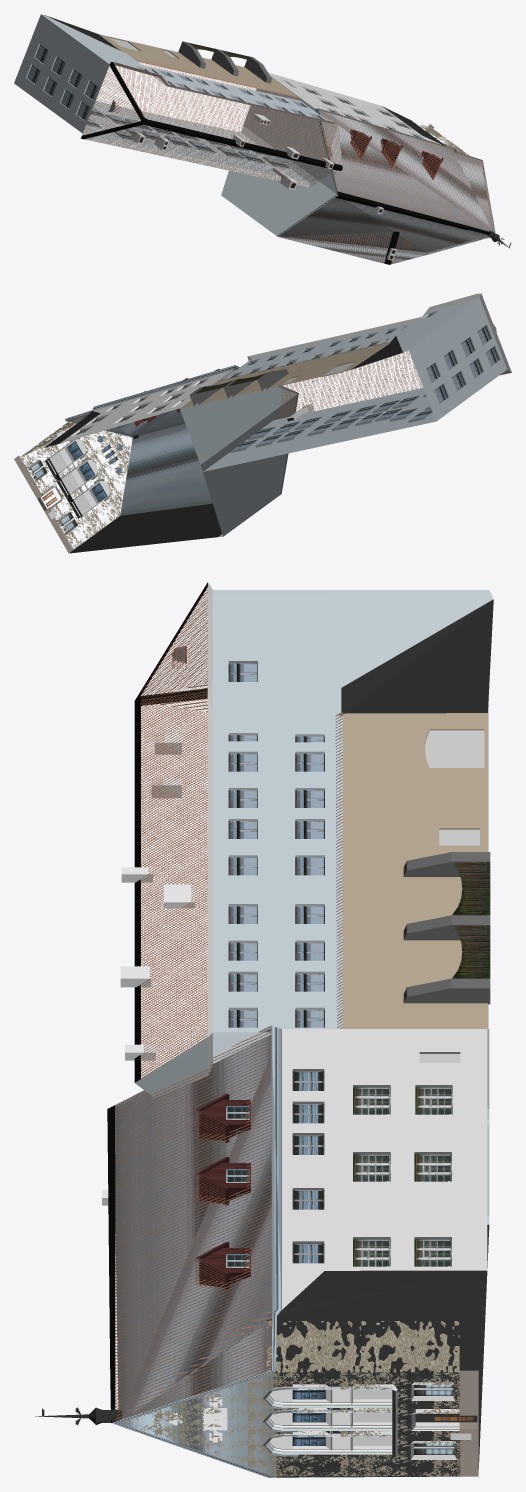
Rendered from Lai-27.obj.
3 views of the same model, one above another, from view 1: azimuth 30°, elevation 25°; view 2: azimuth 150°, elevation 25°; view 3: azimuth 270°, elevation 25° (orthographic). The views are drawn at different scales.
Parts seen in each view (by area): view 1: Lai_27; view 2: Lai_27; view 3: Lai_27.
Part boxes in pixels (bbox=[...]): Lai_27: bbox=[14, 14, 511, 264]; Lai_27: bbox=[14, 293, 511, 553]; Lai_27: bbox=[35, 582, 493, 1477].
Size of the model in its own units: 51.2 by 33.35 by 24.48.
